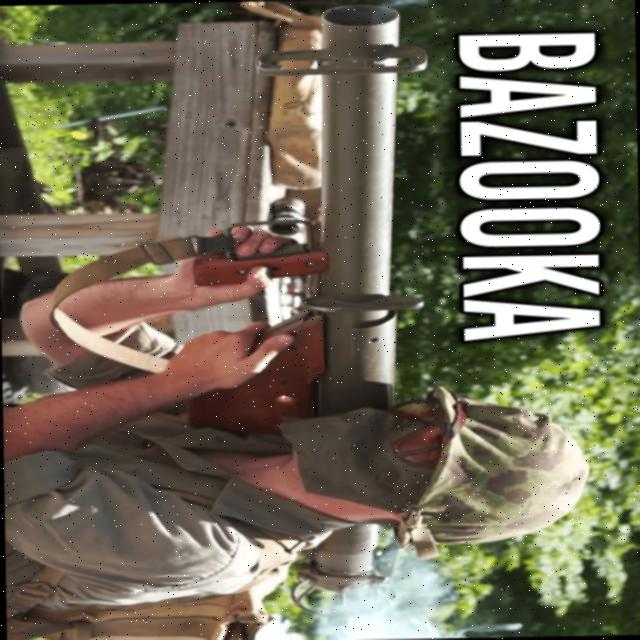Bazooka: (192, 6, 436, 616)
